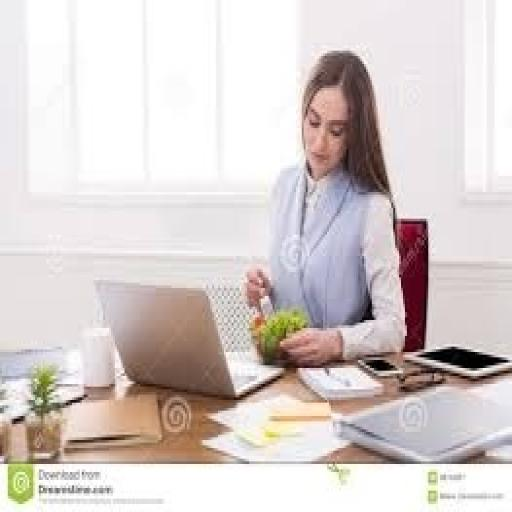eating: (239, 48, 407, 368)
